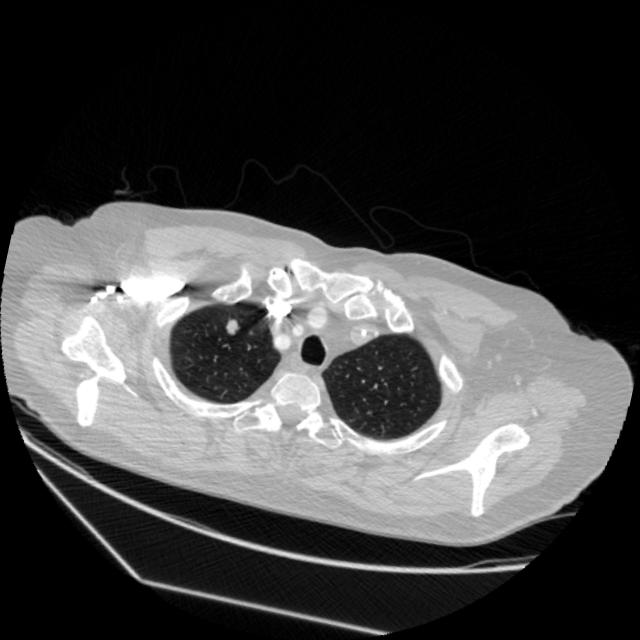nodule: (214, 306, 252, 344)
